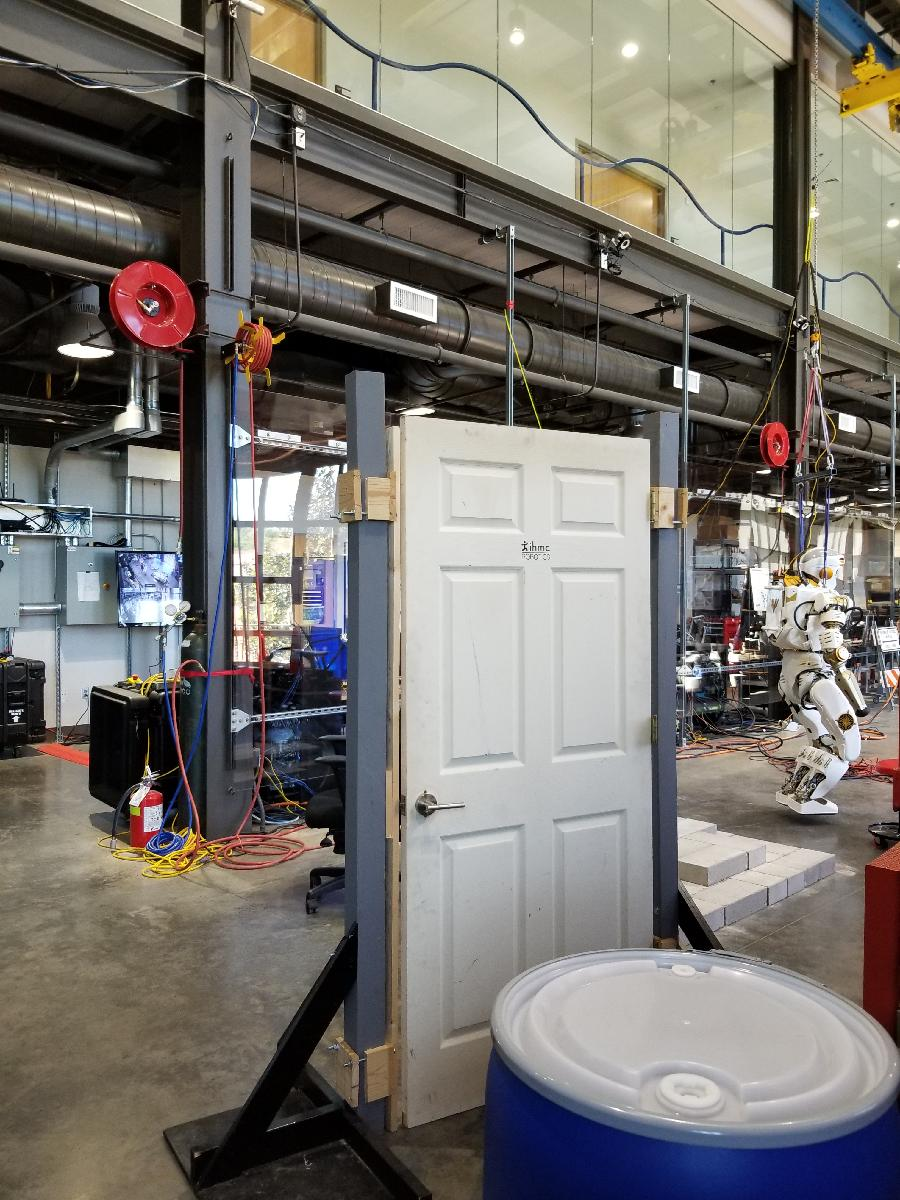door: (399, 413, 653, 1134)
doorHandle: (408, 787, 478, 831)
